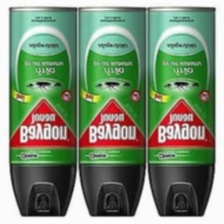aerosol_cans: (144, 4, 218, 219), (6, 5, 80, 218), (75, 5, 148, 219)
